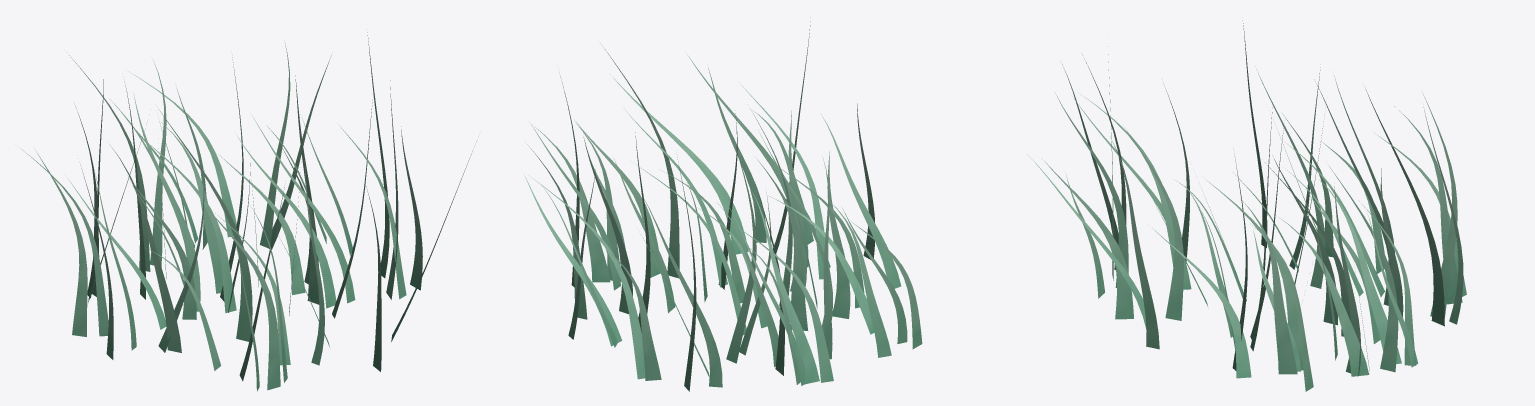
The model's file is mesh-plant-006-emerald-swordleaf_LOD0.glb.
The picture shows the model from 3 angles, left to right: view 1: azimuth 30°, elevation 25°; view 2: azimuth 150°, elevation 25°; view 3: azimuth 270°, elevation 25°; orthographic projection.
Parts seen in each view (by area): view 1: geometry_0; view 2: geometry_0; view 3: geometry_0.
Part boxes in pixels (x1,y1,x2,y2): geometry_0: (20,32,476,391); geometry_0: (524,17,922,391); geometry_0: (1027,20,1466,391).
Bounding box in the file's own units: 2.3 × 1.09 × 2.35.
